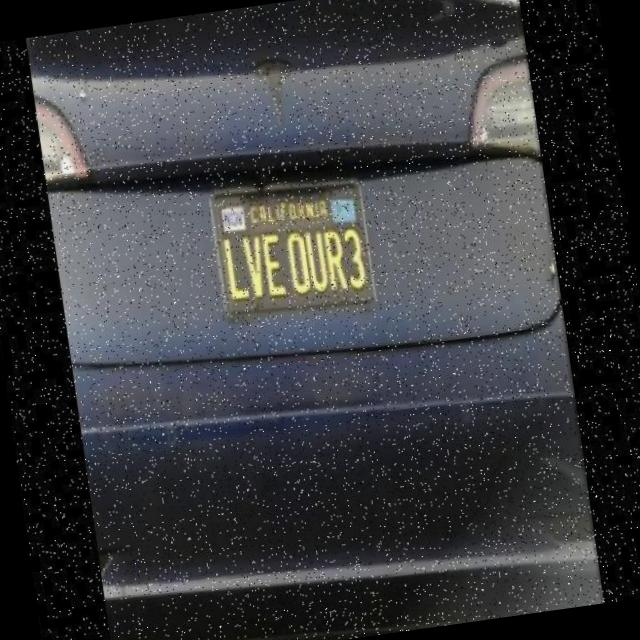LicensePlate: (208, 167, 375, 322)
